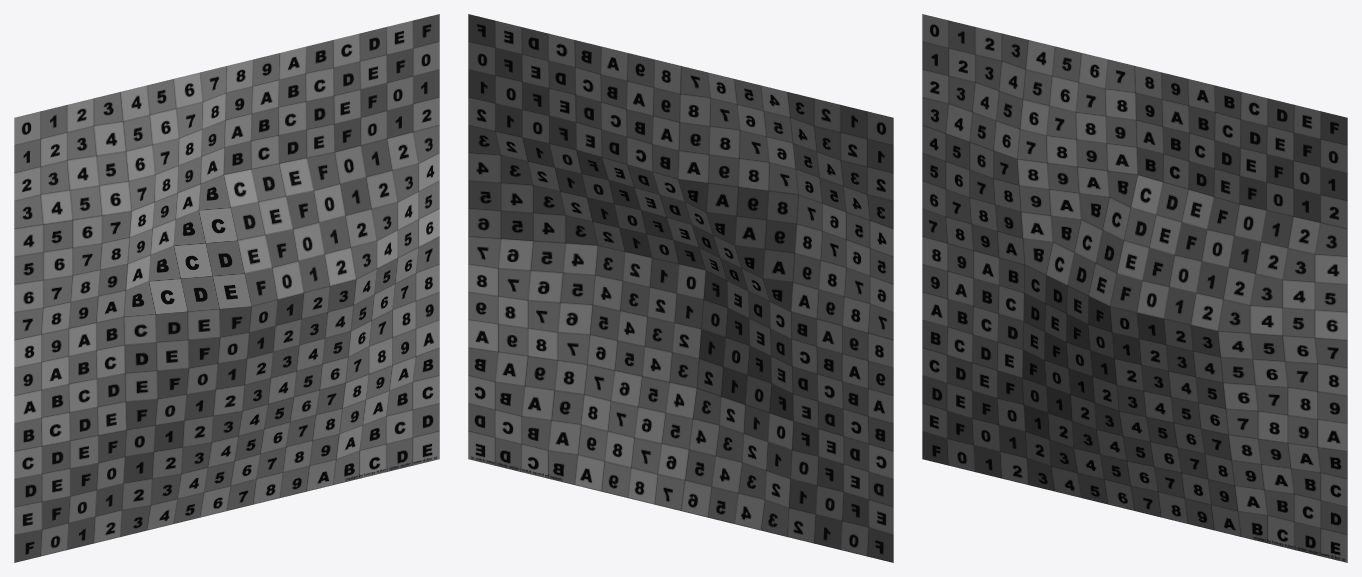
File: WallTile2.fbx
3 views of the same model, side by side, from view 1: azimuth 30°, elevation 25°; view 2: azimuth 150°, elevation 25°; view 3: azimuth 330°, elevation 25° (orthographic).
Parts seen in each view (by area): view 1: pPlane15; view 2: pPlane15; view 3: pPlane15.
Part boxes in pixels (bbox=[...]): pPlane15: bbox=[14, 14, 439, 562]; pPlane15: bbox=[468, 14, 893, 562]; pPlane15: bbox=[922, 14, 1347, 562].
Size of the model in its own units: 1 by 1 by 0.1134.
1 material, 1 textured.
